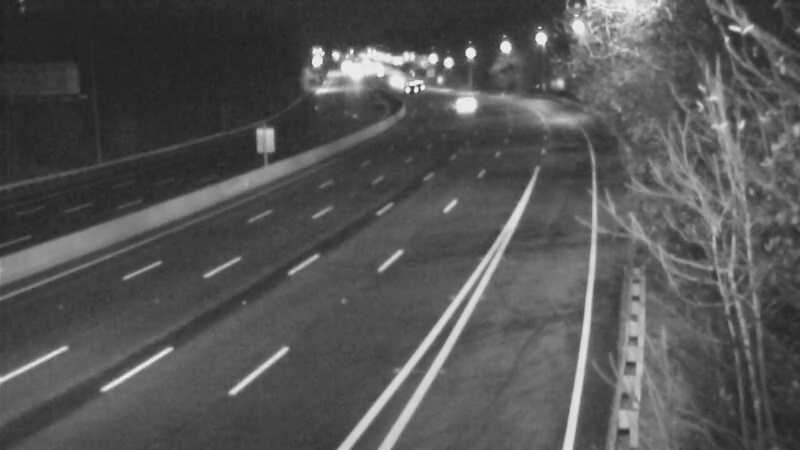vehicle: (383, 57, 433, 107), (439, 82, 489, 132)
